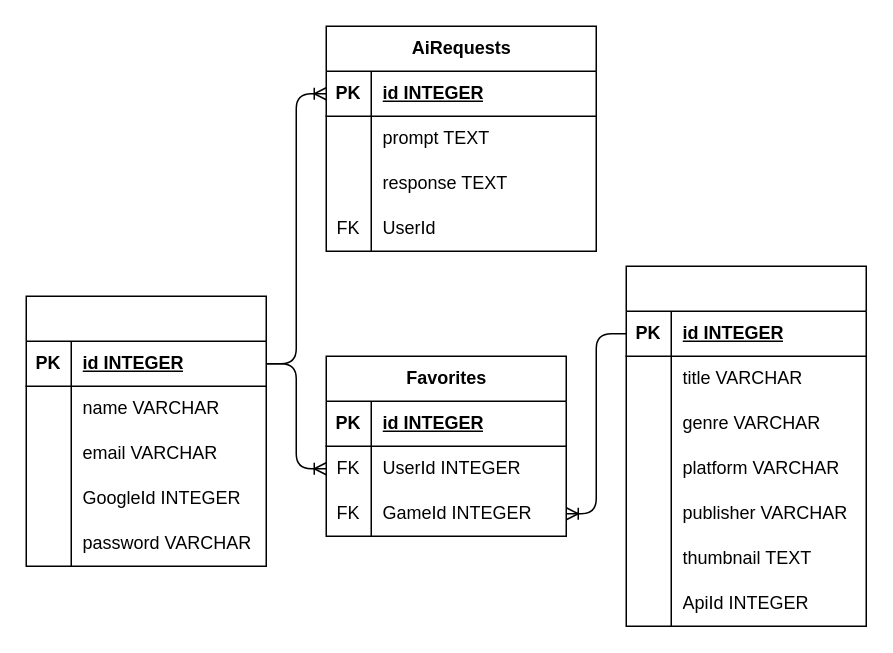
This 893x653 diagram has some shape labels left out. Each missing label, with the box of its shape:
Games: (625, 265, 866, 626)
Users: (25, 295, 266, 566)
